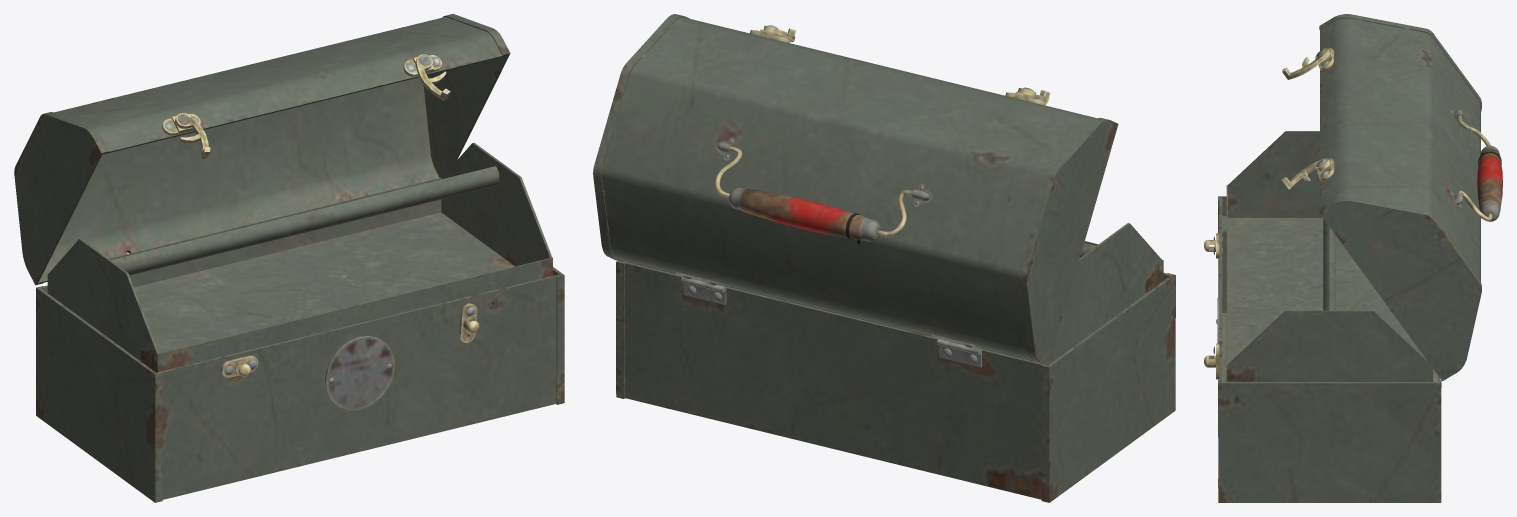
File: metal_toolbox.glb
3 renders of one model, left to right at view 1: azimuth 30°, elevation 25°; view 2: azimuth 150°, elevation 25°; view 3: azimuth 270°, elevation 25°, orthographic. The views are drawn at different scales.
Visible parts, largest first — view 1: metal_toolbox_lid, metal_toolbox, metal_toolbox_tray, metal_toolbox_handle_latch_r, metal_toolbox_handle_latch_l; view 2: metal_toolbox_lid, metal_toolbox, metal_toolbox_tray, metal_toolbox_handle; view 3: metal_toolbox_lid, metal_toolbox_tray, metal_toolbox, metal_toolbox_handle, metal_toolbox_handle_latch_l, metal_toolbox_handle_latch_r.
Boxes of the visible parts, x1,y1,x2,y2 form: metal_toolbox_lid: (14,14,510,285); metal_toolbox: (36,267,564,502); metal_toolbox_tray: (47,142,552,372); metal_toolbox_handle_latch_r: (415,54,450,100); metal_toolbox_handle_latch_l: (175,113,210,158); metal_toolbox_lid: (593,14,1118,365); metal_toolbox: (616,260,1175,502); metal_toolbox_tray: (628,223,1163,363); metal_toolbox_handle: (715,146,912,244); metal_toolbox_lid: (1317,14,1481,381); metal_toolbox_tray: (1226,131,1432,381); metal_toolbox: (1204,196,1441,502); metal_toolbox_handle: (1457,114,1502,221); metal_toolbox_handle_latch_l: (1282,48,1330,79); metal_toolbox_handle_latch_r: (1282,158,1330,189).
Size of the model in its own units: 0.4 by 0.3047 by 0.2705.
Materials: 1 (1 with a texture image).
